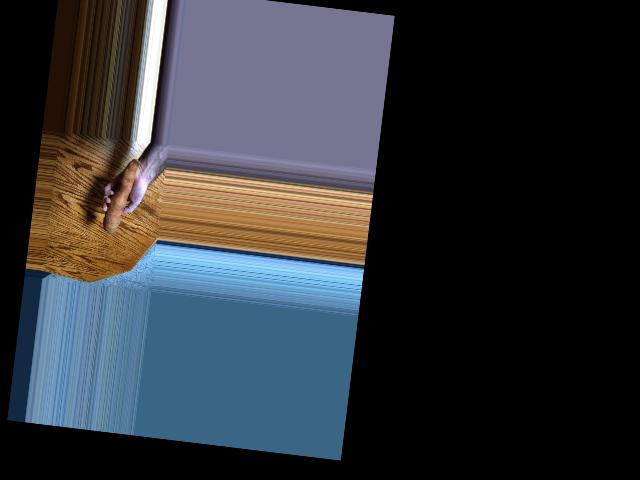sweet_potato: (100, 159, 137, 237)
